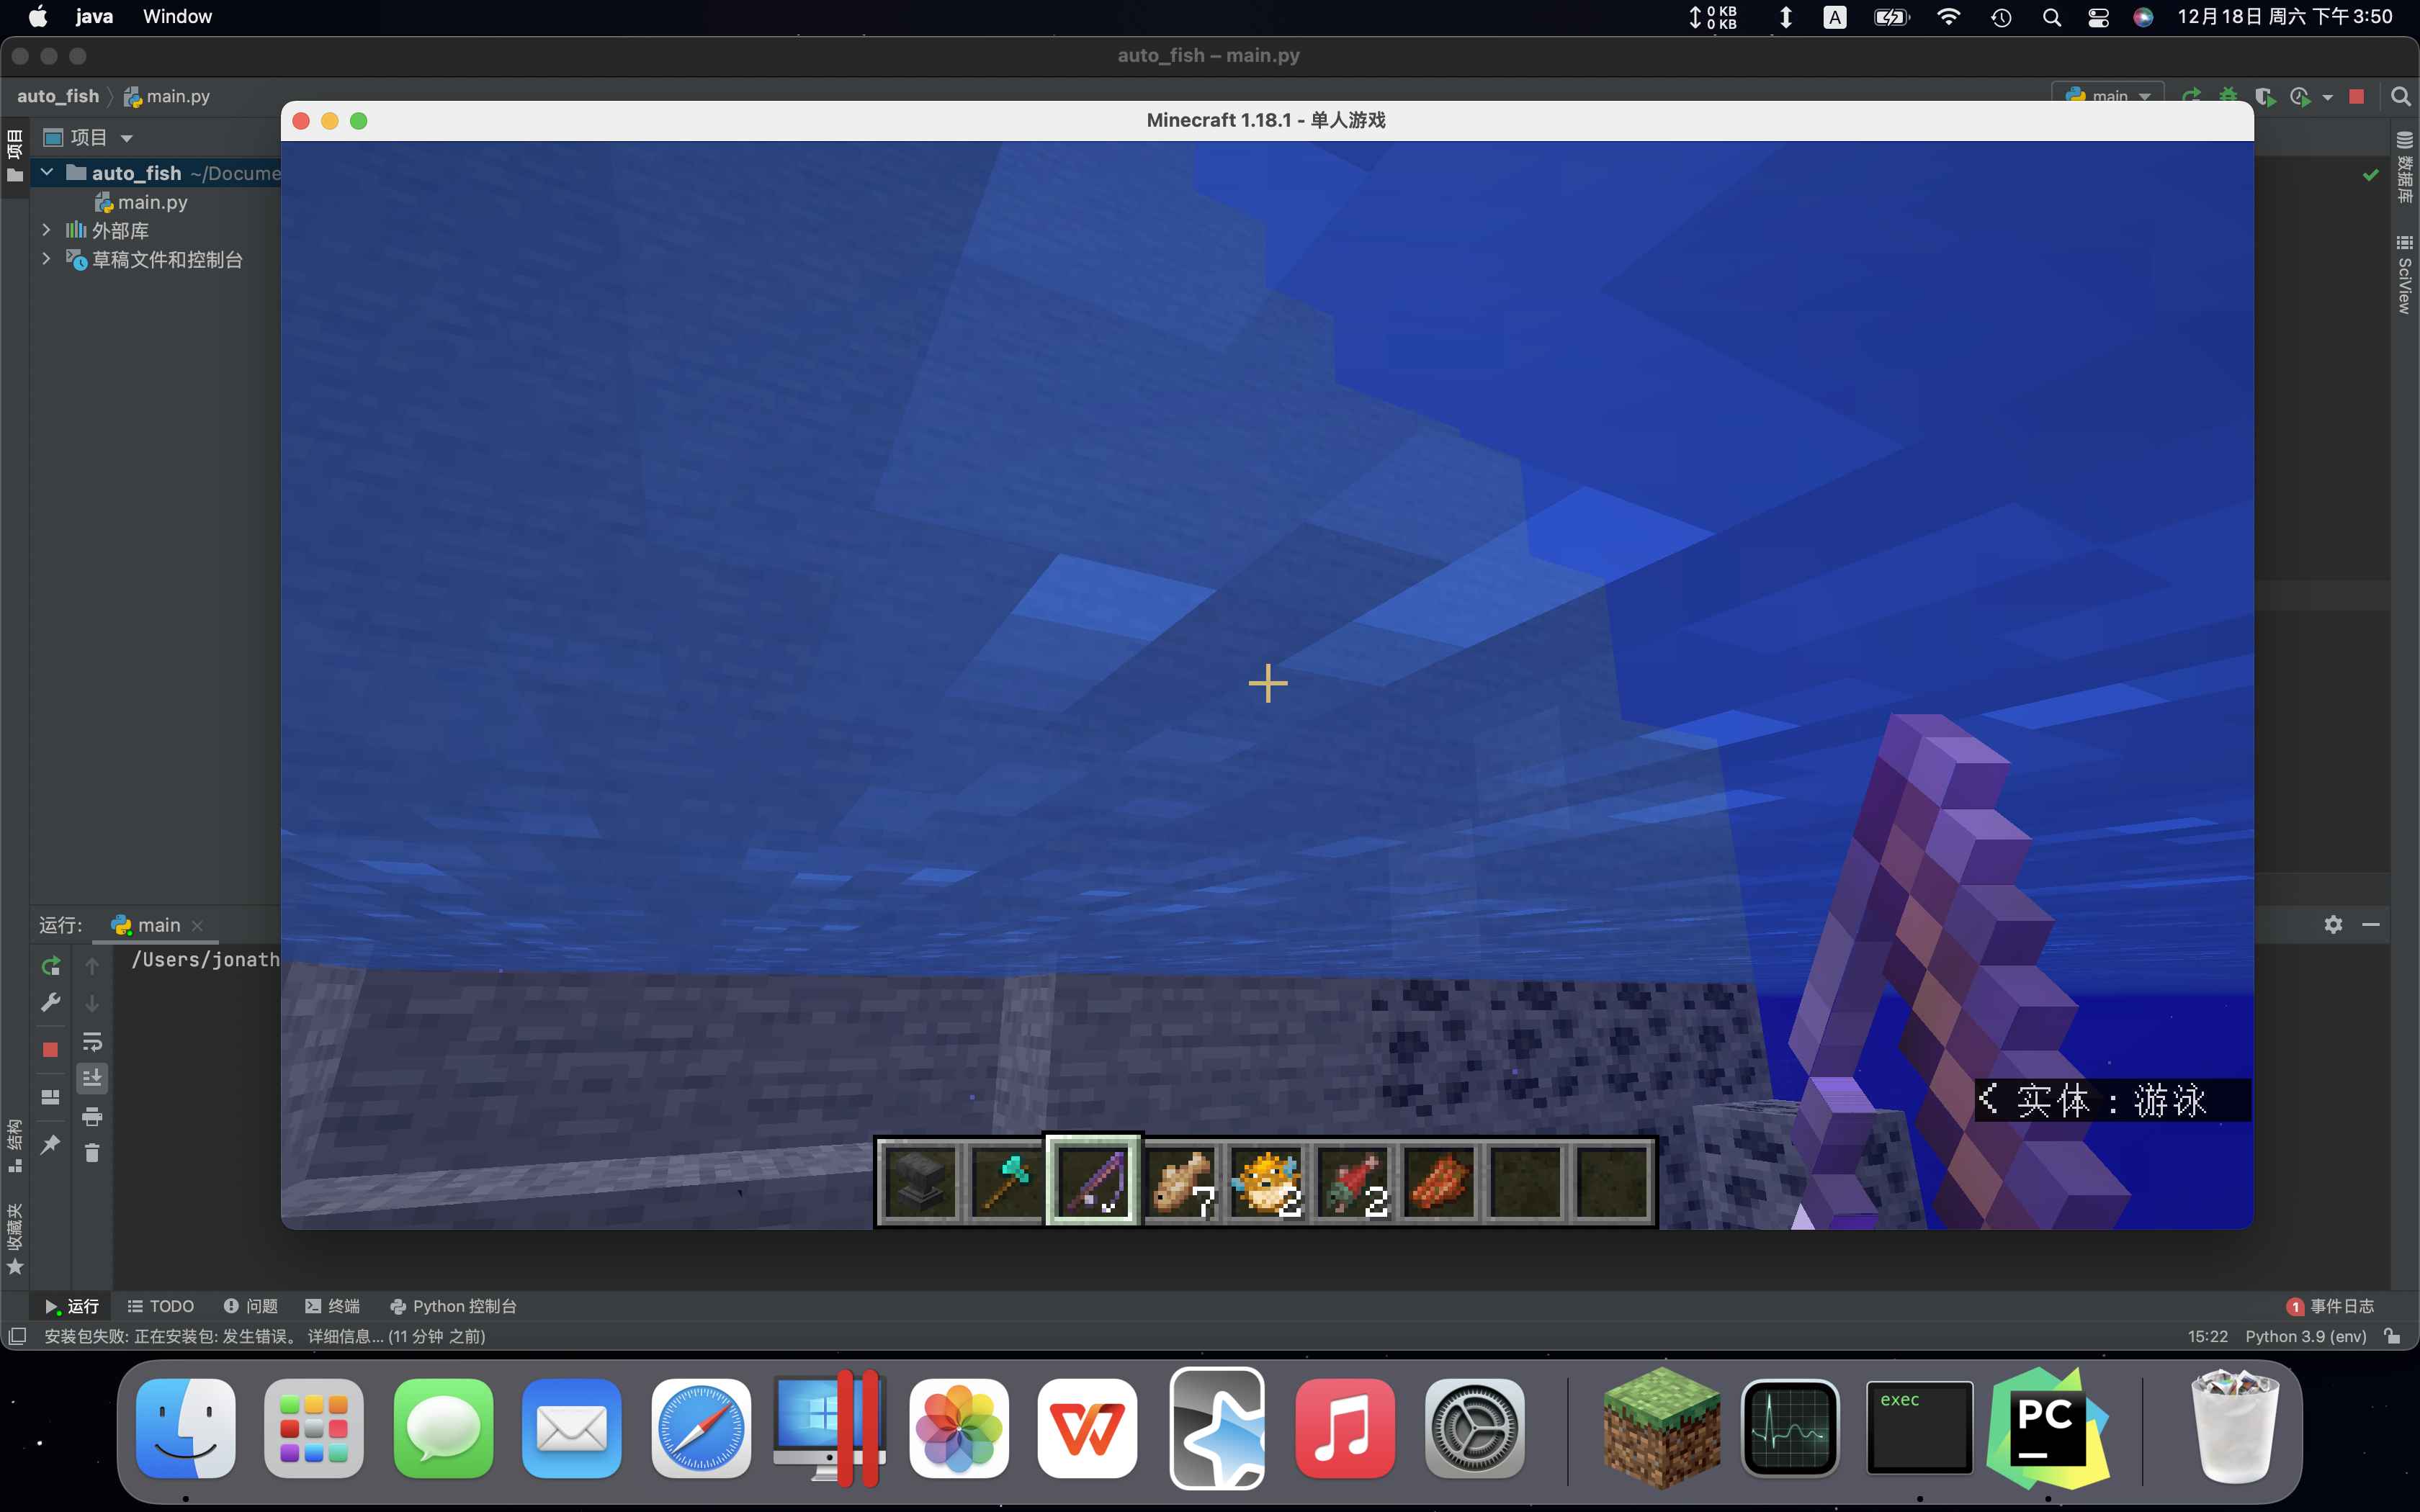inf: (1976, 1077, 2254, 1124)
